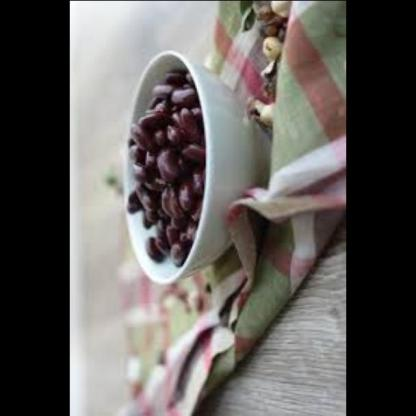fasol: (111, 68, 205, 252)
